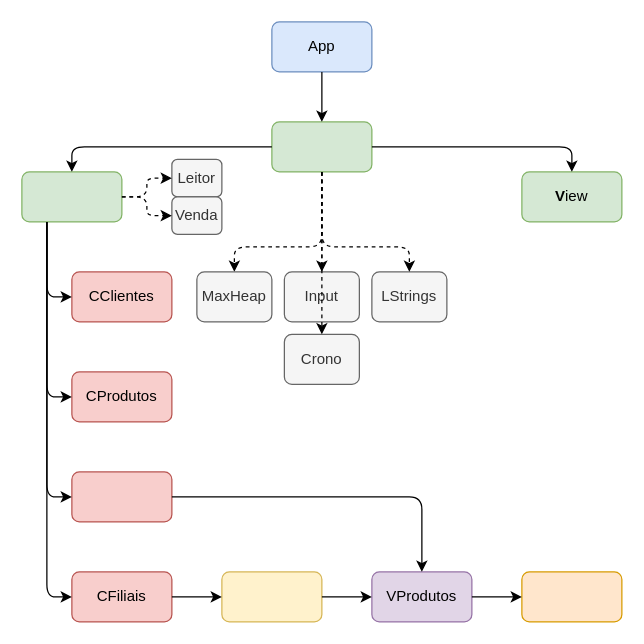
Image size: 644x644. Some labels were removed from this diagram. Here are the shapes that lost their labels. From the top down, the box of each, then its label:
(271, 121, 372, 172): C ontroller
(21, 171, 122, 222): M odel
(71, 471, 172, 522): CFaturacao
(221, 571, 322, 622): ProdsCliente
(521, 571, 622, 622): InfoVenda
